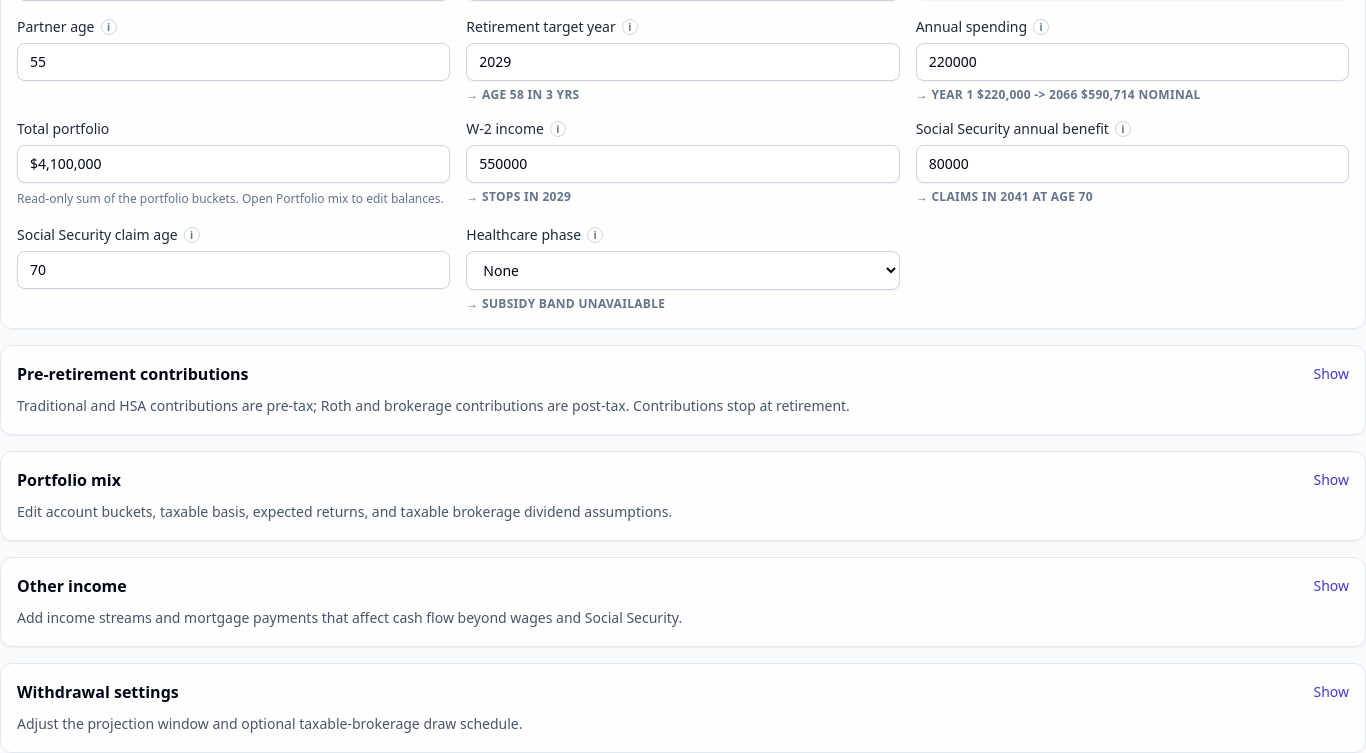
Test: BasicForm verdict layout › keeps invalid withdrawal inflation edits local until a valid debounced value is entered
(page scrolled)
Click the button "Withdrawal settings Show" at (98, 692), box [17,680,1349,704]
(page scrolled)
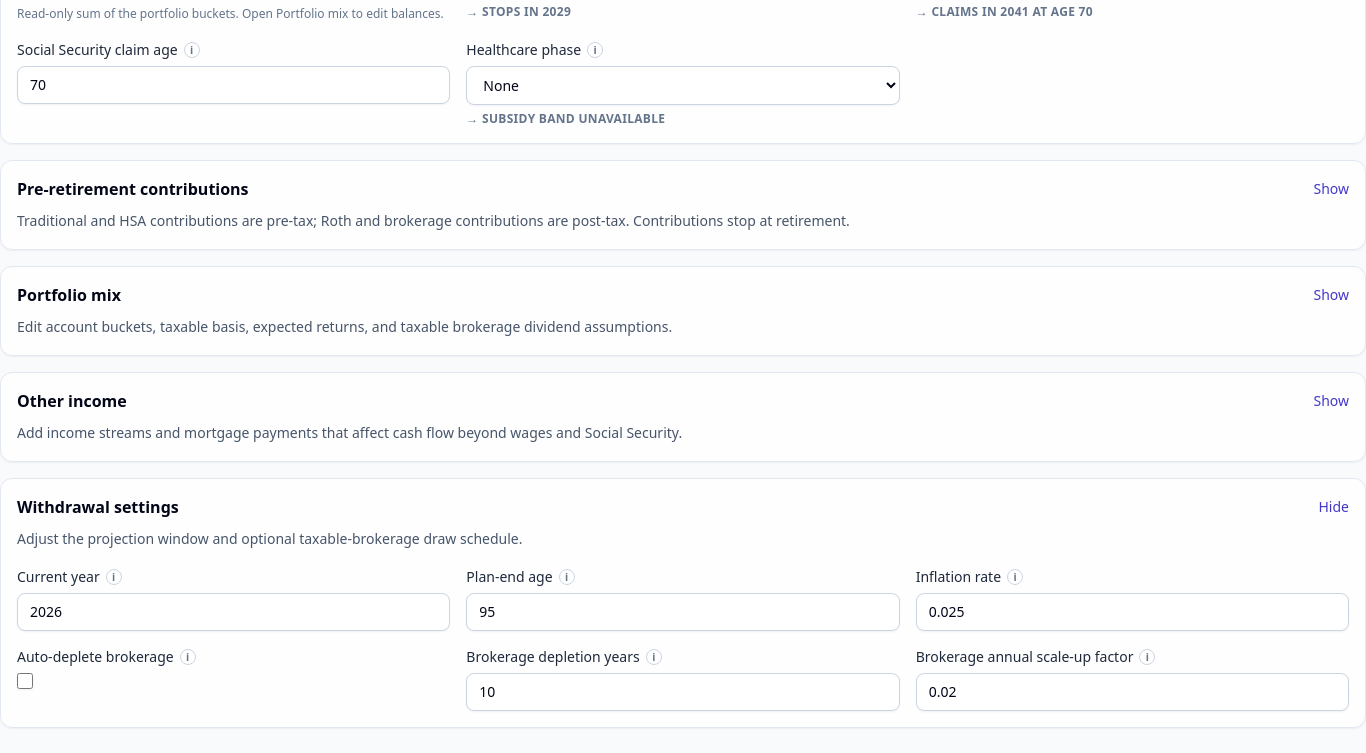
Replace the text in the field labelled "Inflation rate" with "1.5" at (1132, 612), box [916,593,1349,631]
Wait 151 ms
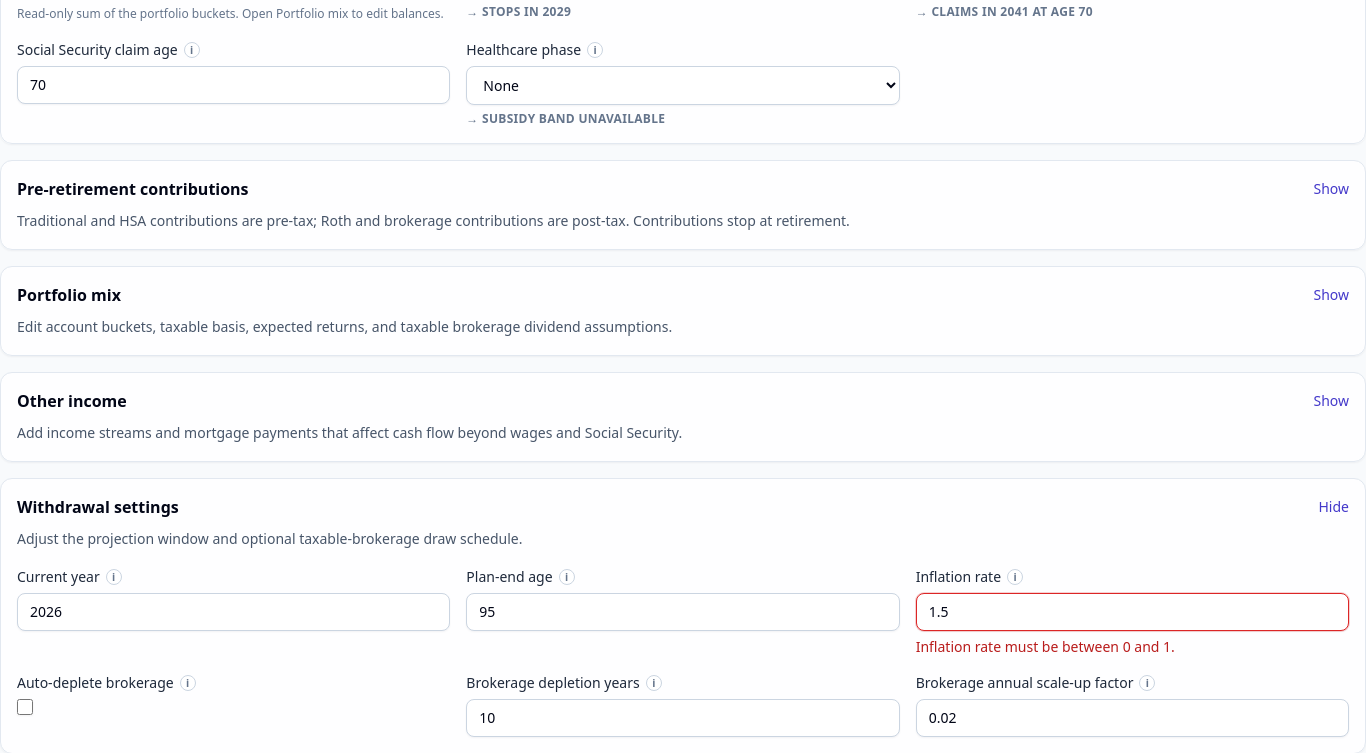
Expected: the text "Inflation rate must be between 0 and 1." is shown, [916,637,1175,656]
Replace the text in the field labelled "Inflation rate" with "0.03" at (1132, 612), box [916,593,1349,631]
Wait 151 ms
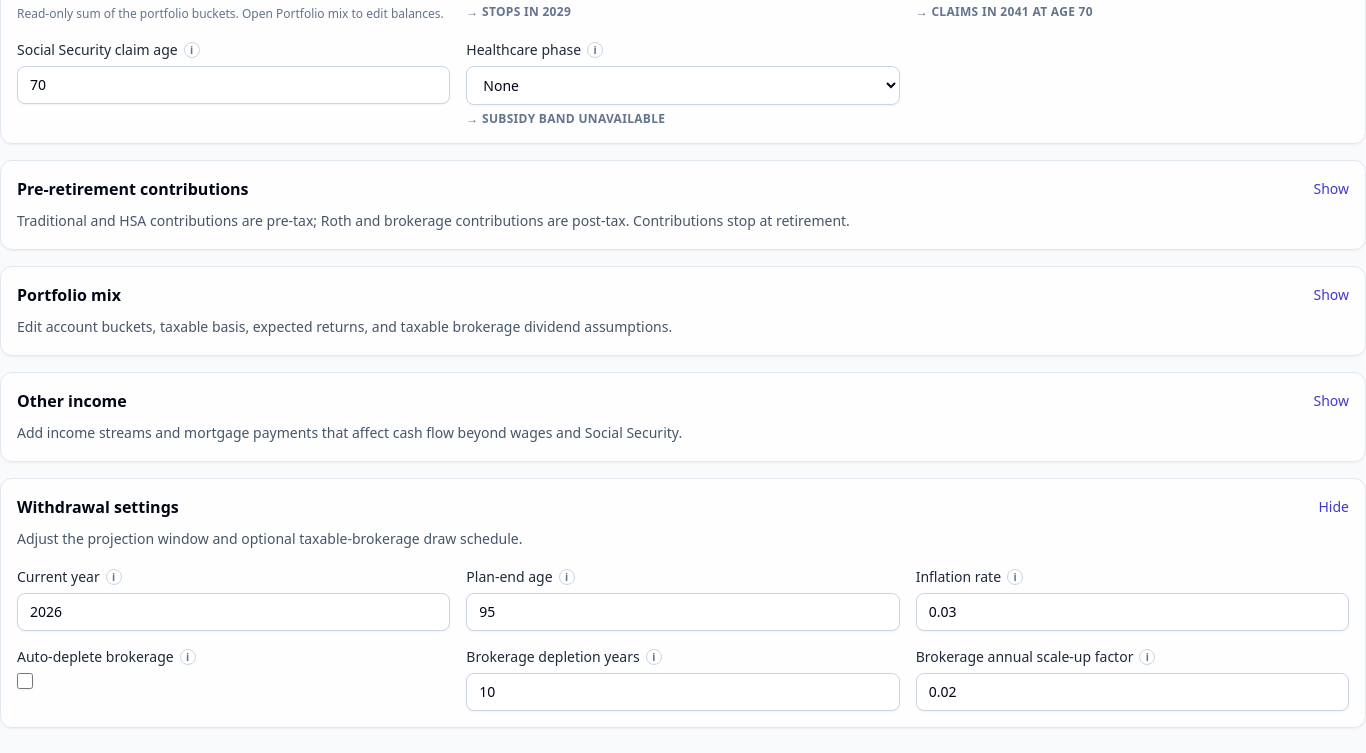
Expected: the text "Inflation rate must be between 0 and 1." is gone
